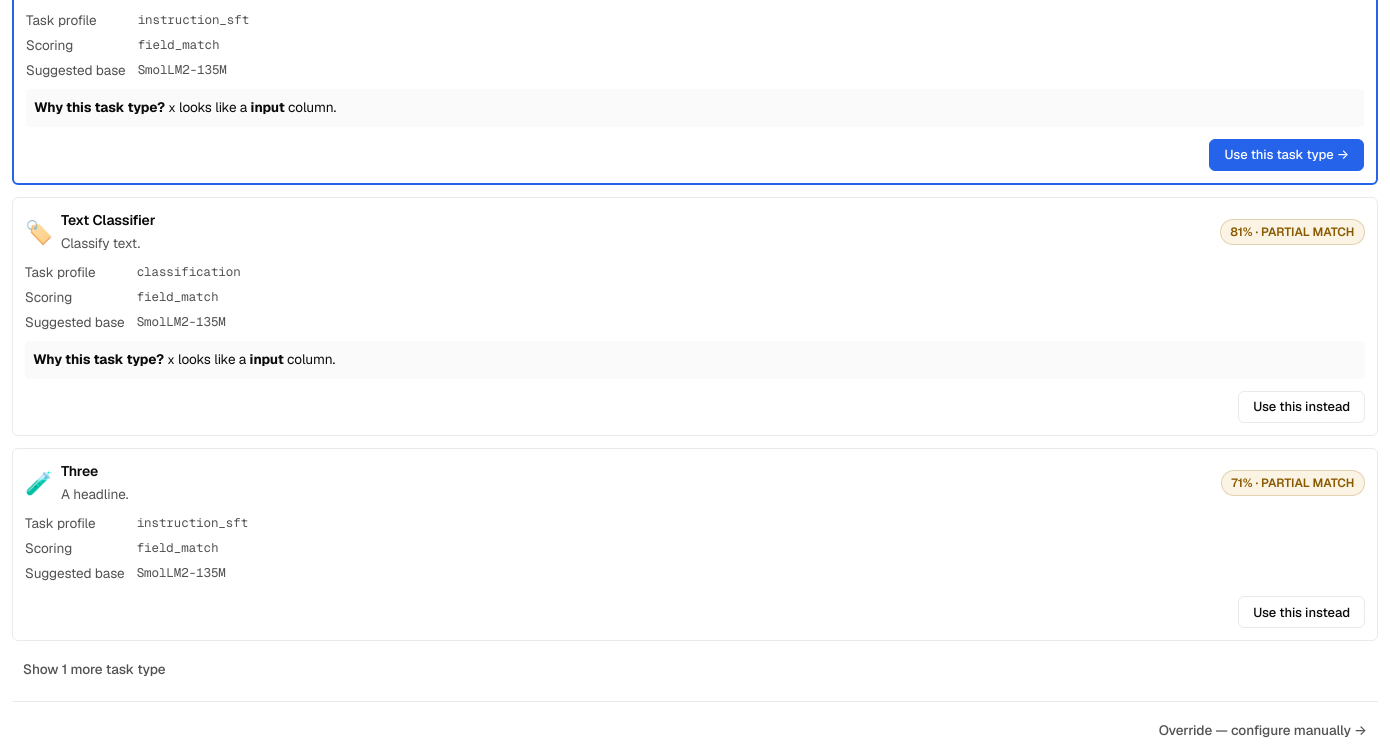
Scenario: RecipePicker › shows "show more" toggle when there are more than 3 suggestions
The width and height of the screenshot is (1390, 746).
(page scrolled)
Click the button with test id "recipe-picker-toggle-all" at (94, 670), box 12,654 -> 176,686
(page scrolled)
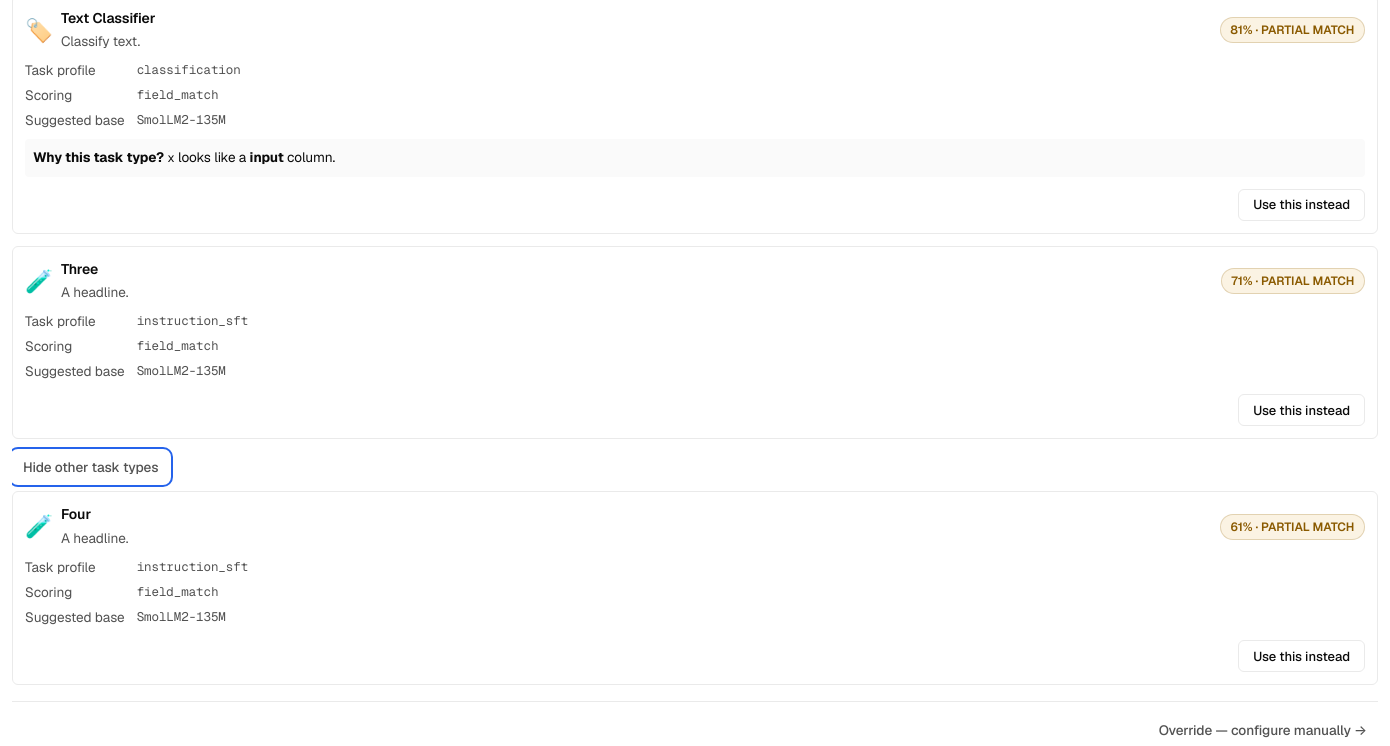
Now the element with test id "recipe-card-r4" is shown, box 12,492 -> 1378,685
